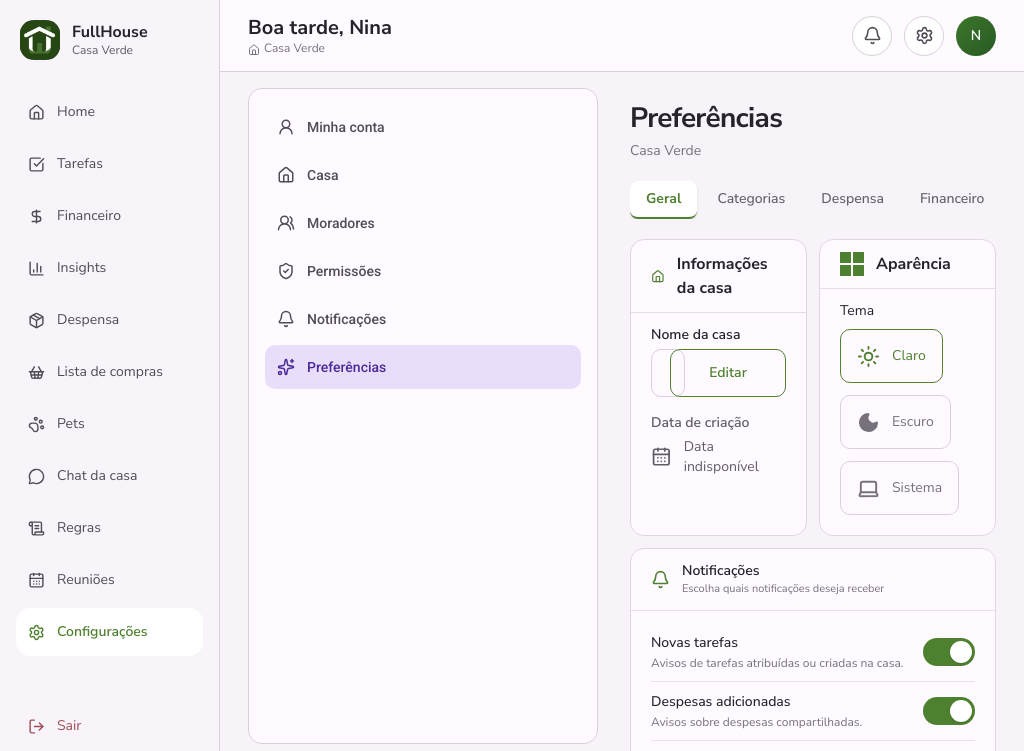
Scenario: SettingsPage › applies the selected theme and persists notification changes through the settings API
Click the button "Escuro".
click(895, 422)  # box left=840, top=395, right=951, bottom=449
(page scrolled)
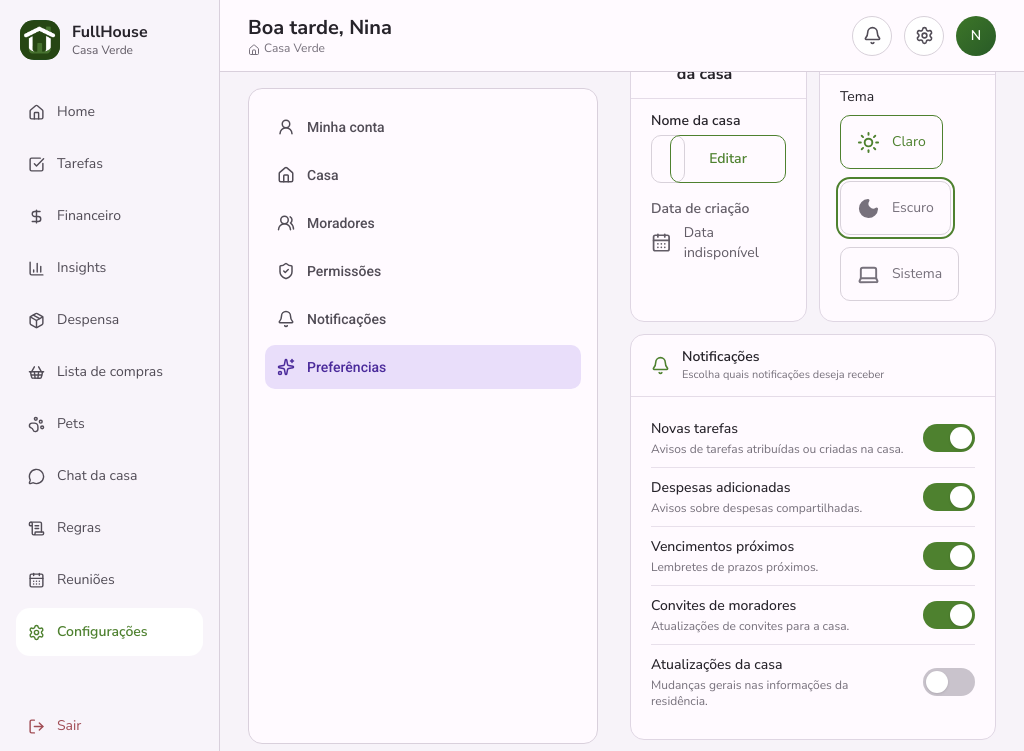
Click the switch named "Atualizações da casa".
click(949, 682)  # box left=923, top=668, right=975, bottom=696
(page scrolled)
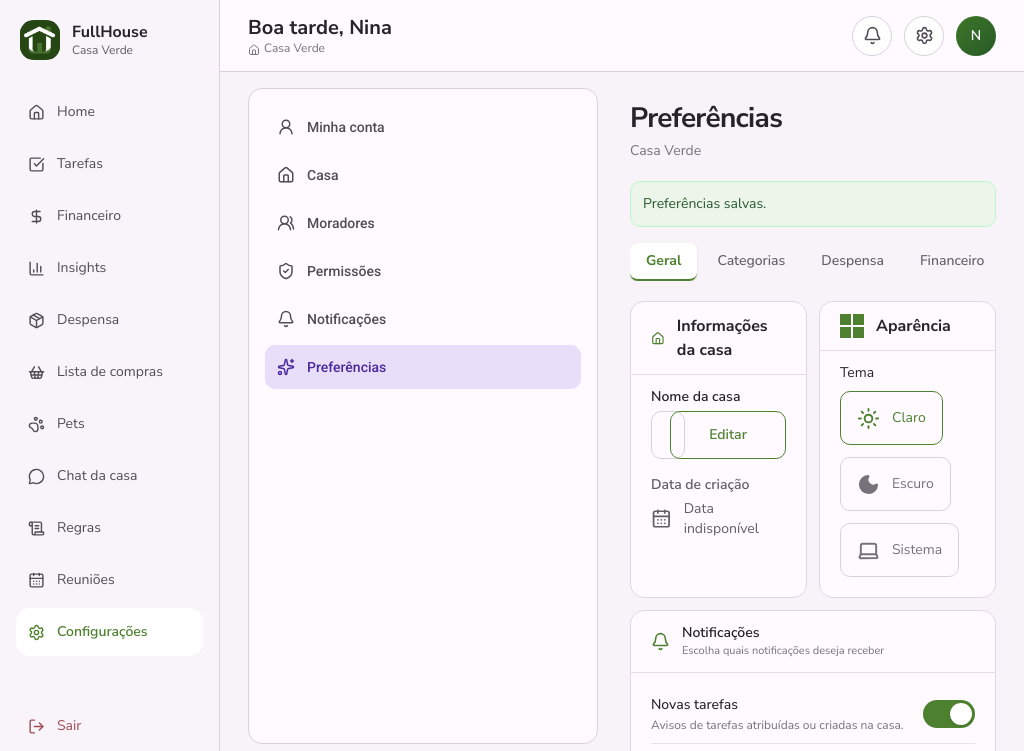
expect the text "Preferências salvas." is shown: met, box left=630, top=181, right=996, bottom=227
